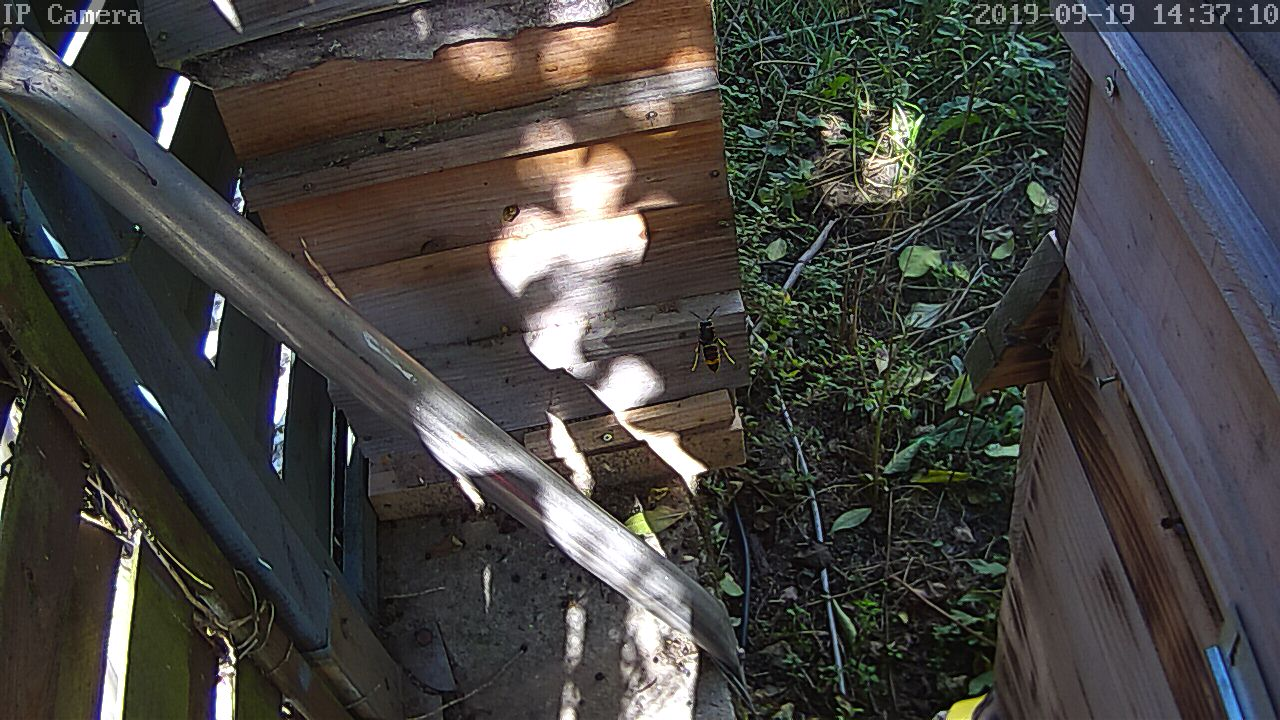bee: (1155, 511, 1187, 540)
hornet: (684, 302, 737, 379)
